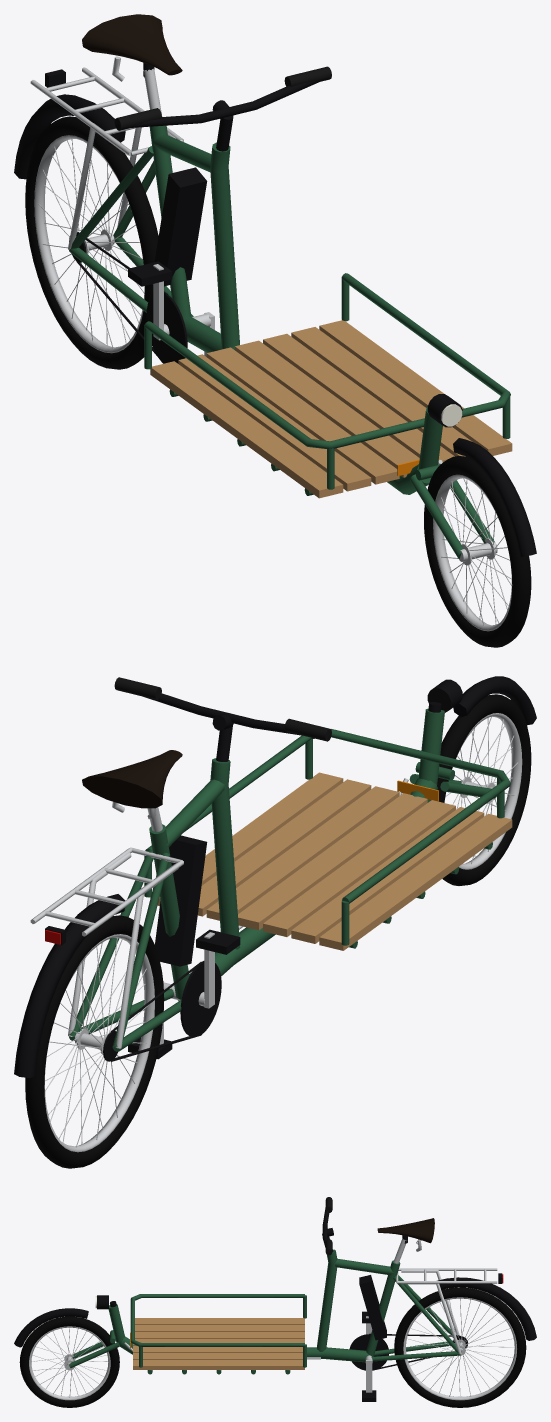
Rendered from longjohn.glb.
3 renders of one model, top to bottom at view 1: azimuth 30°, elevation 25°; view 2: azimuth 150°, elevation 25°; view 3: azimuth 270°, elevation 25°, orthographic. The views are drawn at different scales.
Parts seen in each view (by area): view 1: frame, wheel_rear, wheel_front, fork, bar, crank, light_front, pedal_r; view 2: frame, wheel_rear, wheel_front, bar, crank, fork, light_front, pedal_r; view 3: frame, wheel_rear, wheel_front, fork, crank, bar.
Boxes of the visible parts, x1=… form: frame: x1=14, y1=14, x2=512, y2=498; wheel_rear: x1=25, y1=116, x2=164, y2=369; wheel_front: x1=424, y1=456, x2=531, y2=647; fork: x1=409, y1=438, x2=536, y2=558; bar: x1=114, y1=66, x2=331, y2=151; crank: x1=146, y1=264, x2=214, y2=363; light_front: x1=427, y1=394, x2=462, y2=427; pedal_r: x1=128, y1=261, x2=172, y2=286; frame: x1=14, y1=708, x2=512, y2=1077; wheel_rear: x1=25, y1=915, x2=164, y2=1168; wheel_front: x1=437, y1=694, x2=531, y2=885; bar: x1=114, y1=677, x2=331, y2=761; crank: x1=159, y1=932, x2=221, y2=1044; fork: x1=409, y1=676, x2=536, y2=798; light_front: x1=427, y1=679, x2=462, y2=712; pedal_r: x1=196, y1=929, x2=240, y2=954; frame: x1=108, y1=1218, x2=536, y2=1374; wheel_rear: x1=394, y1=1287, x2=526, y2=1407; wheel_front: x1=19, y1=1316, x2=119, y2=1407; fork: x1=14, y1=1301, x2=119, y2=1367; crank: x1=349, y1=1316, x2=388, y2=1392; bar: x1=322, y1=1197, x2=333, y2=1255.
Size of the model in its own units: 0.6236 by 1.02 by 2.61.
